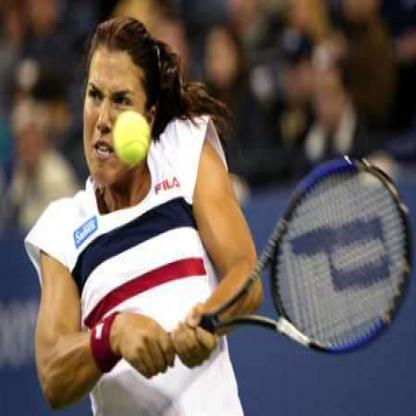face: (81, 21, 151, 188), (283, 36, 313, 105), (316, 55, 345, 125), (207, 26, 239, 89), (16, 107, 44, 170)
